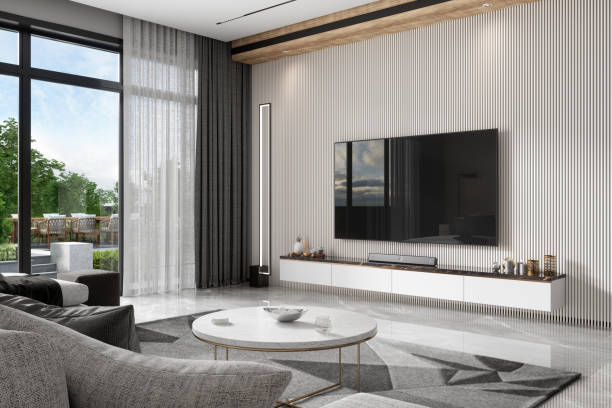TV: (331, 126, 501, 248)
TV stand: (276, 252, 568, 316)
sofa: (0, 258, 292, 406)
table: (190, 302, 380, 394)
